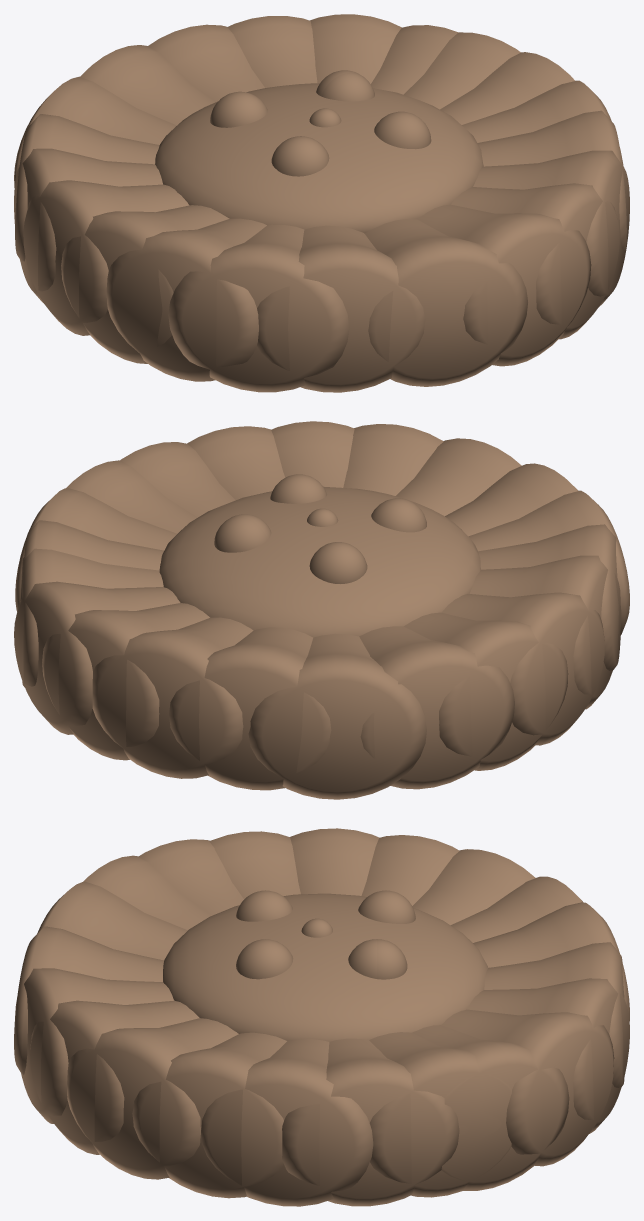
The model's file is SNACK.fbx.
The picture shows the model from 3 angles, top to bottom: view 1: azimuth 30°, elevation 25°; view 2: azimuth 150°, elevation 25°; view 3: azimuth 270°, elevation 25°; orthographic projection.
Parts seen in each view (by area): view 1: Sphere.018, Sphere.009, Sphere.004, Sphere.011, Sphere.003, Sphere.010, Sphere.005, Sphere.012, Sphere.002, Sphere.013, Sphere.006, Sphere.022 (+14 smaller); view 2: Sphere.018, Sphere.008, Sphere.021, Sphere.007, Sphere.022, Sphere.005, Sphere.006, Sphere.017, Sphere.020, Sphere.002, Sphere.009, Sphere.003 (+14 smaller); view 3: Sphere.018, Sphere.015, Sphere.013, Sphere.014, Sphere.019, Sphere.017, Sphere.001, Sphere.016, Sphere.012, Sphere.010, Sphere.020, Sphere.011 (+15 smaller).
Part boxes in pixels (x1,y1,x2,y2): Sphere.018: (155,83,483,233); Sphere.009: (364,219,527,386); Sphere.004: (168,224,349,392); Sphere.011: (257,225,425,392); Sphere.003: (106,218,266,381); Sphere.010: (417,204,591,366); Sphere.005: (23,180,189,335); Sphere.012: (451,183,619,339); Sphere.002: (61,205,229,363); Sphere.013: (473,150,629,306); Sphere.006: (14,148,162,302); Sphere.022: (80,45,215,125); Sphere.018: (159,486,480,637); Sphere.008: (248,633,426,799); Sphere.021: (92,617,253,778); Sphere.007: (359,626,514,789); Sphere.022: (169,627,331,790); Sphere.005: (442,592,604,745); Sphere.006: (404,612,568,770); Sphere.017: (14,581,180,734); Sphere.020: (42,603,209,760); Sphere.002: (469,555,621,709); Sphere.009: (395,438,521,516); Sphere.003: (478,524,620,670); Sphere.018: (163,893,488,1041); Sphere.015: (201,1039,373,1206); Sphere.013: (67,1018,238,1179); Sphere.014: (282,1038,459,1206); Sphere.019: (132,1032,286,1198); Sphere.017: (441,1009,614,1166); Sphere.001: (369,1032,511,1197); Sphere.016: (412,1025,569,1190); Sphere.012: (30,1000,199,1154); Sphere.010: (15,968,174,1123); Sphere.020: (467,978,629,1133); Sphere.011: (37,881,187,960).
Size of the model in its own units: 308 by 93.72 by 308.
